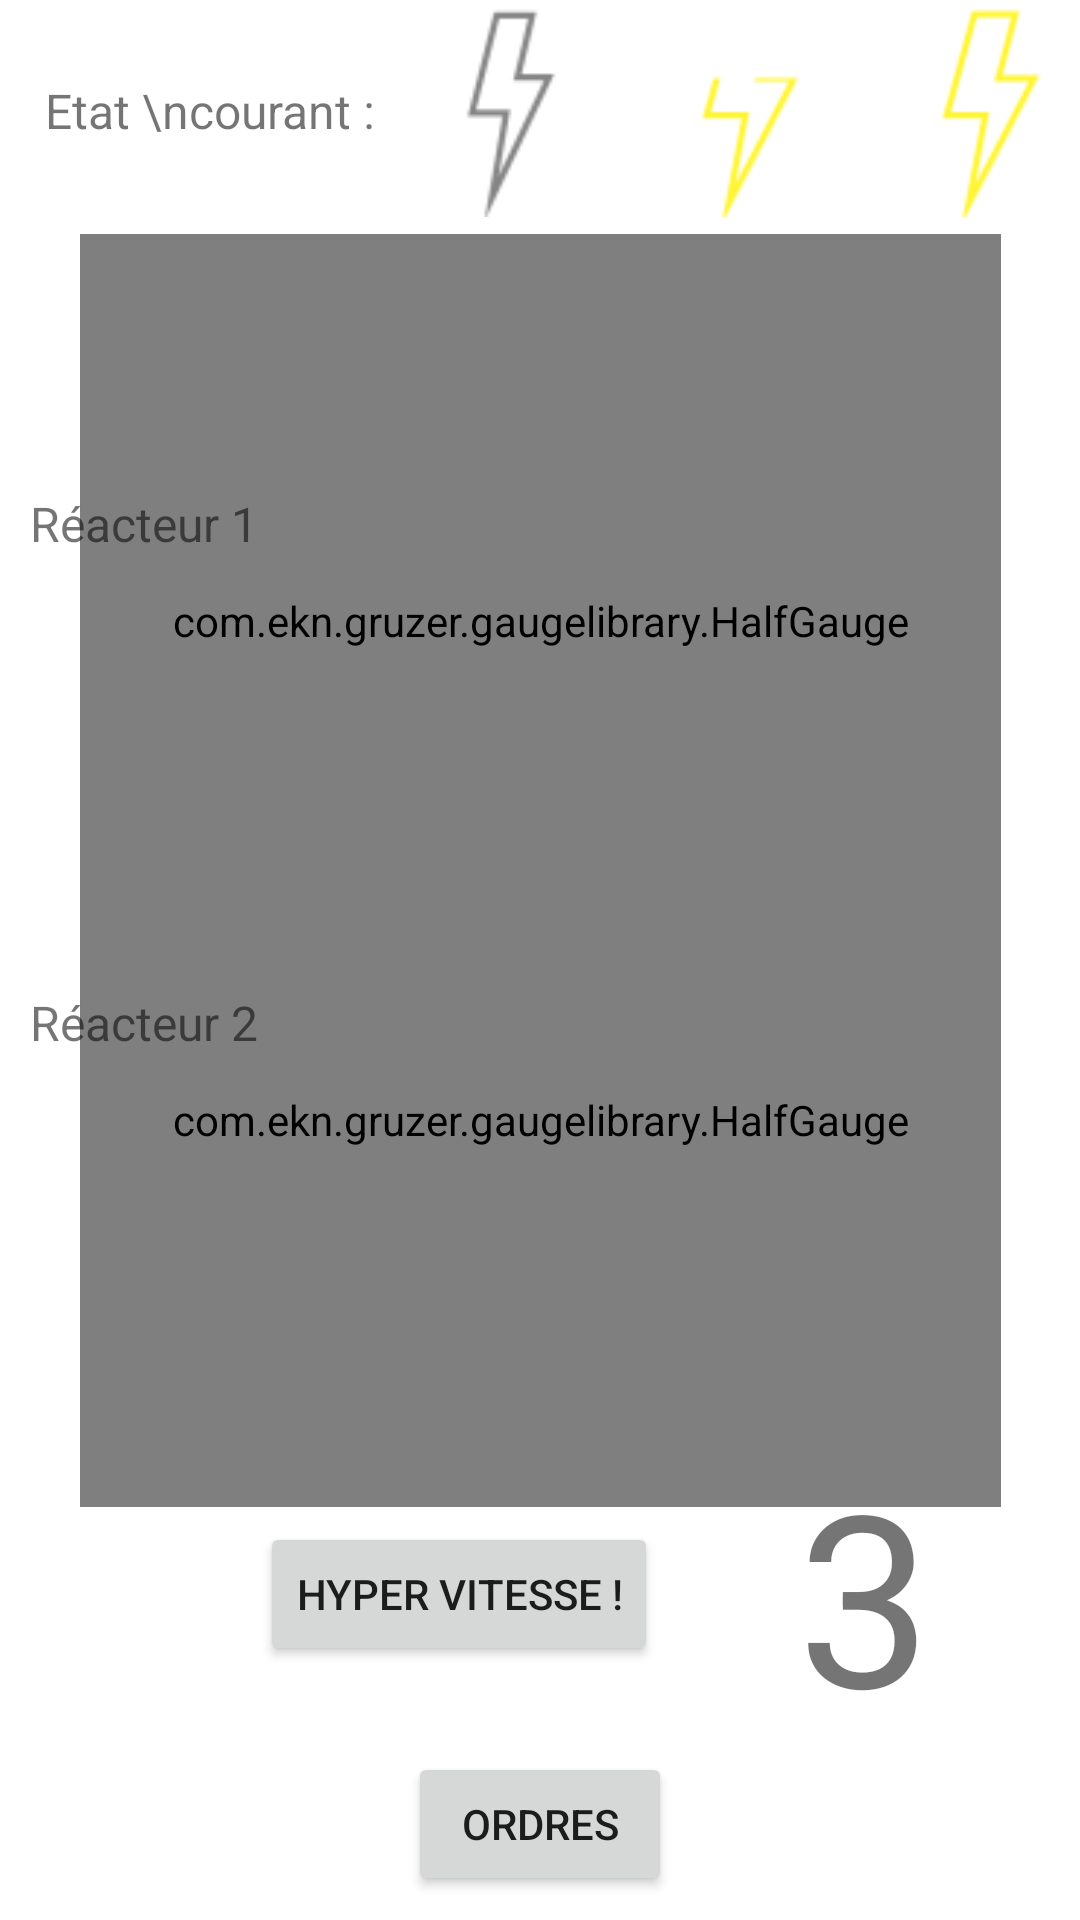

Named icons in this screenshot (1080px x 1920px) and their centers, (x=x, y=y):
lightning half stroke: (x=749, y=146)
